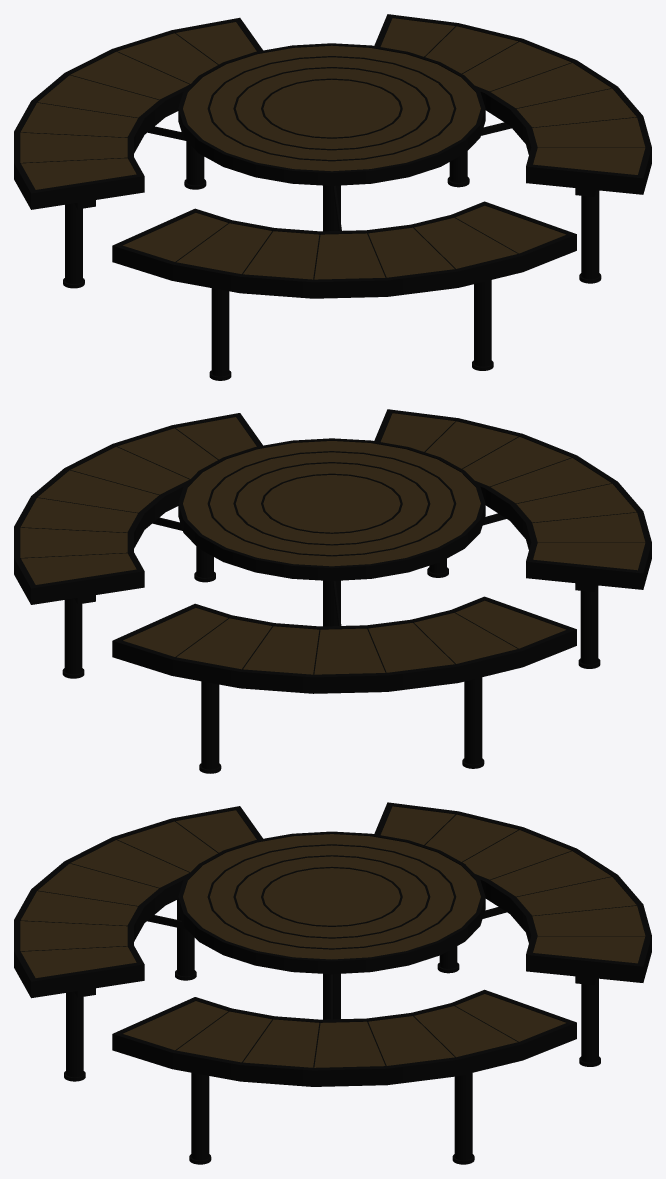
Rendered from Picknicktisch.fbx.
The picture shows the model from 3 angles, top to bottom: view 1: azimuth 30°, elevation 25°; view 2: azimuth 150°, elevation 25°; view 3: azimuth 270°, elevation 25°; orthographic projection.
Parts seen in each view (by area): view 1: Circle.006, Circle, Circle.003, Cylinder.006, Cylinder.002, Cylinder.007, Cylinder.005, Cylinder.004, Cylinder, Cylinder.003; view 2: Circle.006, Circle, Circle.003, Cylinder.004, Cylinder.005, Cylinder.006, Cylinder.003, Cylinder, Cylinder.002; view 3: Circle.006, Circle, Circle.003, Cylinder.002, Cylinder.003, Cylinder.007, Cylinder.004, Cylinder.006, Cylinder.
Part boxes in pixels (x1,y1,x2,y2): Circle.006: (20,18,645,279); Circle: (178,43,485,185); Circle.003: (14,14,651,298); Cylinder.006: (209,288,231,380); Cylinder.002: (579,190,601,283); Cylinder.007: (472,280,493,370); Cylinder.005: (63,203,84,288); Cylinder.004: (184,141,206,189); Cylinder: (323,185,340,231); Cylinder.003: (447,151,469,187); Circle.006: (20,413,645,674); Circle: (178,438,485,580); Circle.003: (14,409,651,693); Cylinder.004: (199,681,221,773); Cylinder.005: (462,677,484,768); Cylinder.006: (578,585,600,668); Cylinder.003: (62,598,84,678); Cylinder: (323,580,340,626); Cylinder.002: (194,546,215,582); Circle.006: (20,806,645,1067); Circle: (178,831,485,974); Circle.003: (14,802,651,1086); Cylinder.002: (189,1072,211,1164); Cylinder.003: (452,1073,474,1164); Cylinder.007: (64,991,85,1081); Cylinder.004: (579,978,600,1066); Cylinder.006: (175,899,196,980); Cylinder: (323,973,340,1019).
Size of the model in its own units: 319 by 94.04 by 321.
